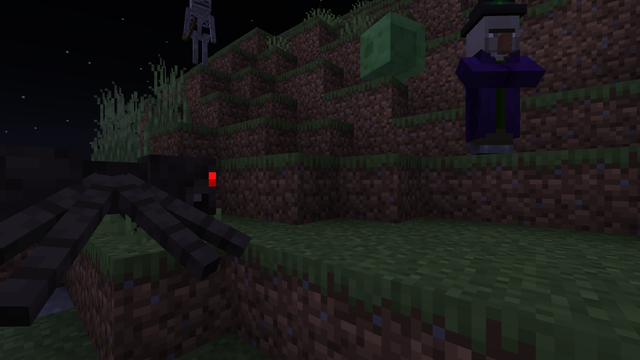araignees: (41, 123, 244, 304)
slimes: (359, 7, 422, 81)
sorcieres: (463, 0, 517, 155)
squelettes: (185, 0, 215, 67)
